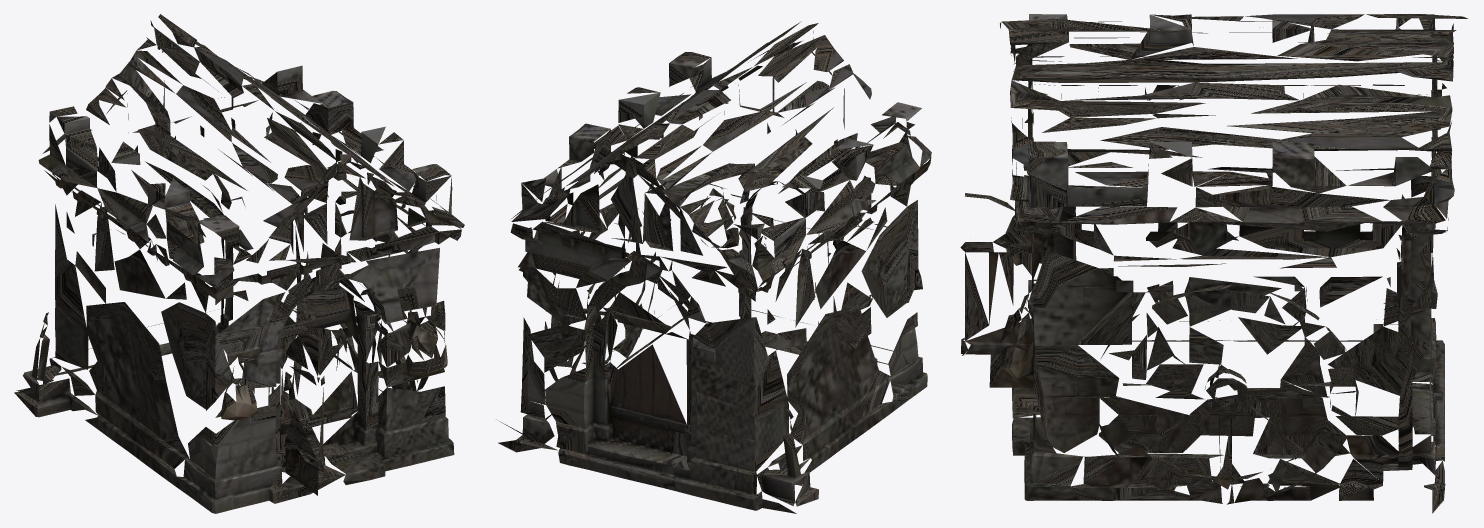
Rendered from bld_ws_mill_a_LOD1.glb.
3 renders of one model, left to right at view 1: azimuth 30°, elevation 25°; view 2: azimuth 150°, elevation 25°; view 3: azimuth 270°, elevation 25°, orthographic. The views are drawn at different scales.
Parts seen in each view (by area): view 1: geometry_0; view 2: geometry_0; view 3: geometry_0.
Part boxes in pixels (<box>): geometry_0: <box>14,14,464,513</box>; geometry_0: <box>496,21,931,513</box>; geometry_0: <box>960,14,1467,513</box>.
Bounding box in the file's own units: 7.78 × 7.95 × 8.85.
Materials: 1 (1 with a texture image).
